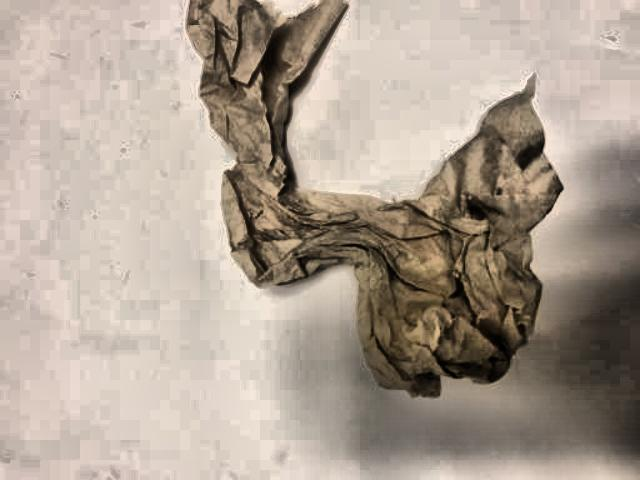Paper: (165, 0, 568, 418)
